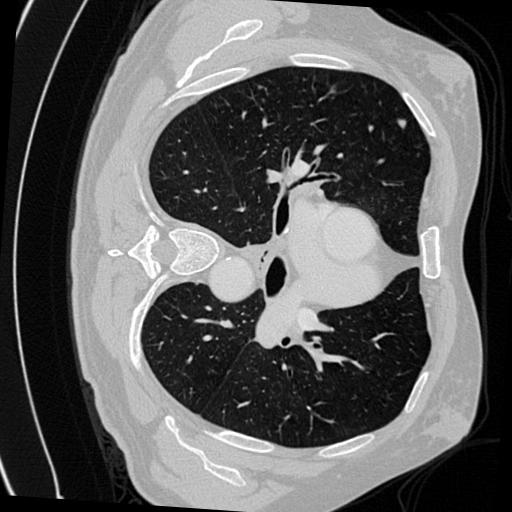nodule: (397, 117, 411, 131)
